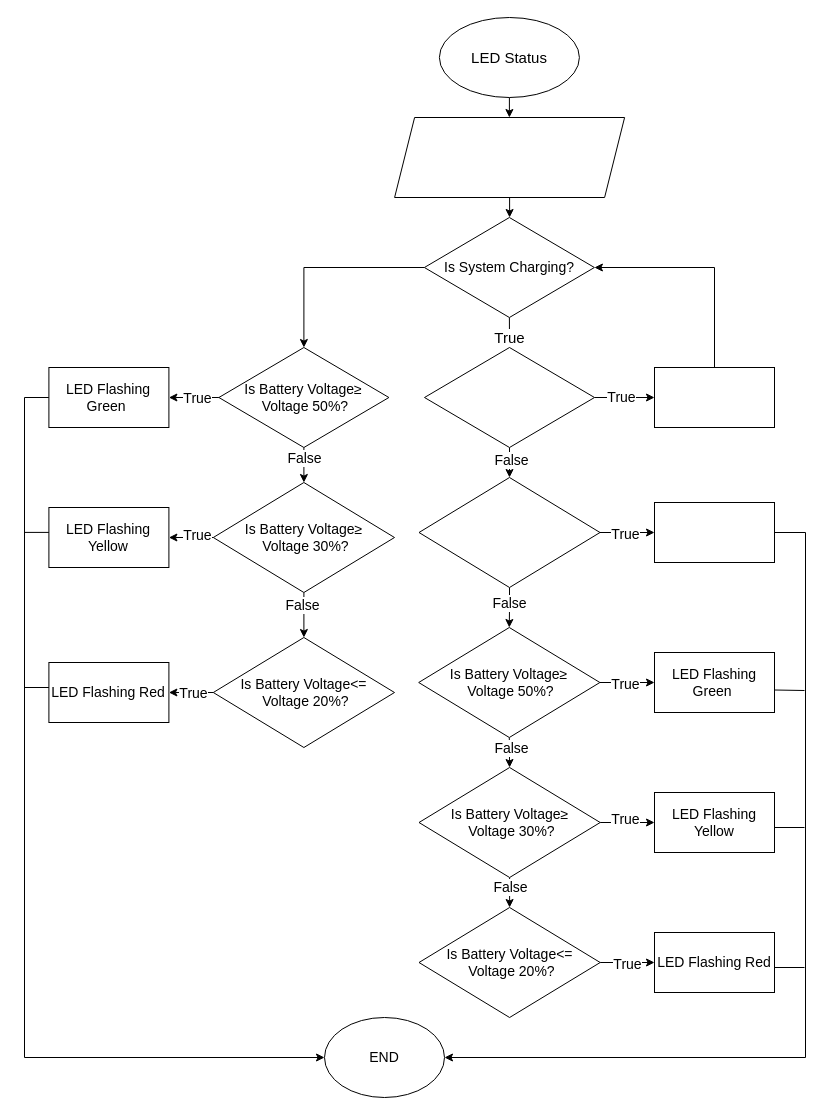
Some shapes in this 831 by 1115 pixel diagram are drawn without their labels. The shapes that lost their labels are listed below. From the top down, each one's centre as x and y in pixels, then its label:
At (509,157): "inputs: battery Voltage , charging , temperature High .".
At (509,397): "Is Temperature High?".
At (714,397): "Flashing Orange".
At (509,532): "Is Battery Voltage ≥ Maximum Voltage?".
At (714,532): "Set LED to Solid blue".
